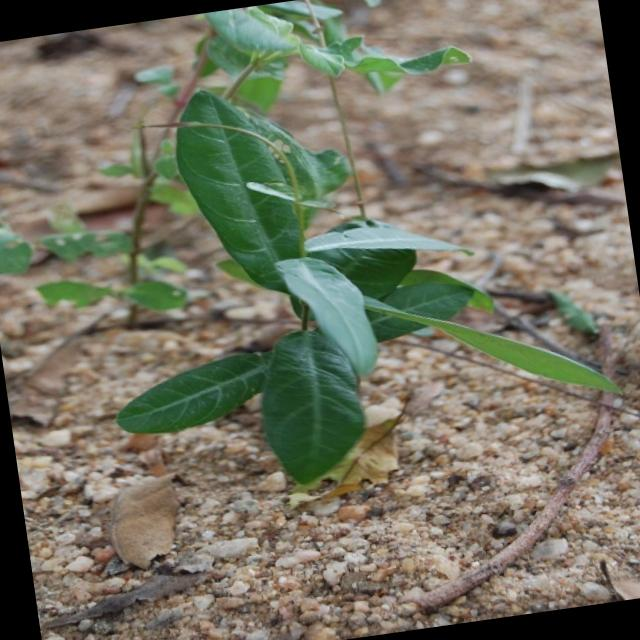Anantamul: (59, 0, 546, 545)
